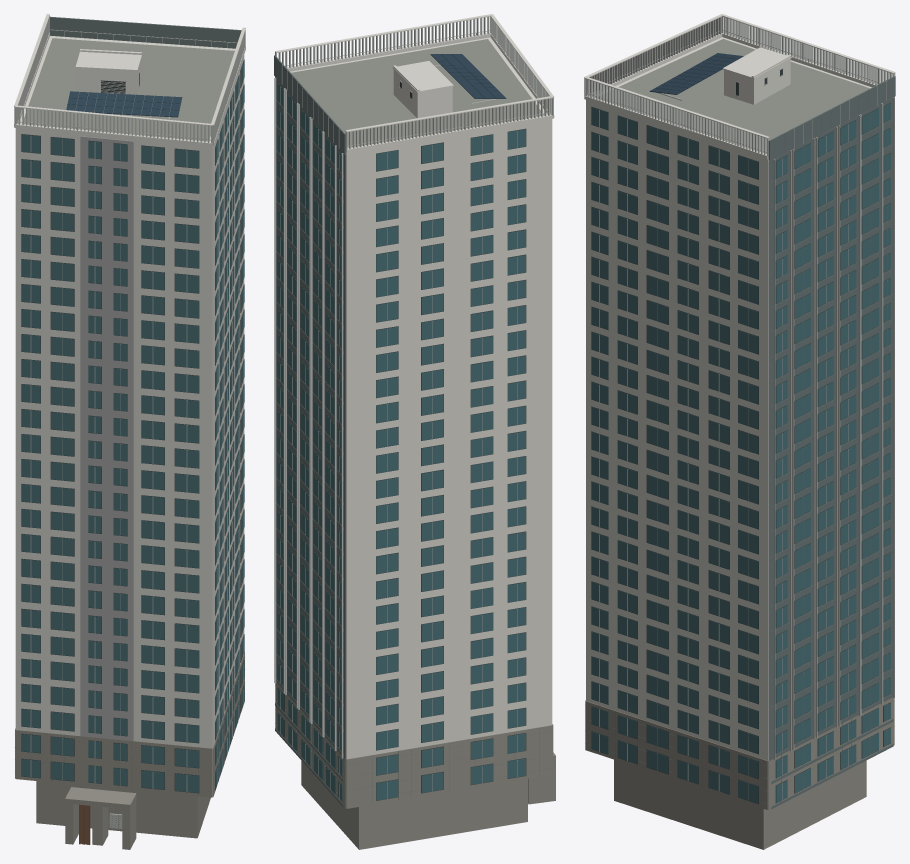
The model's file is bespoke-maple-xi-208-corrected.glb.
The picture shows the model from 3 angles, left to right: view 1: azimuth 30°, elevation 25°; view 2: azimuth 150°, elevation 25°; view 3: azimuth 270°, elevation 25°; orthographic projection.
Visible parts, largest first — view 1: 208_wing_0_observed_massing, 208_e3_window_glass, 208_e3_paint_zone_warm, 208_e2_window_glass, 208_e3_individually_sized_reveals, 208_wing_0_service_roof, 208_e3_lower_stone_field, 208_e2_individually_sized_reveals, 208_208_deep_recessed_lobby_mass, 208_e3_window_center_frames, 208_highway_crown_dark_header, 208_e2_window_center_frames (+15 smaller); view 2: 208_wing_0_observed_massing, 208_e0_window_glass, 208_e1_window_glass, 208_e1_curtainlook_vertical_bars, 208_e1_paint_zone_graphite, 208_wing_0_service_roof, 208_208_deep_recessed_lobby_mass, 208_e0_individually_sized_reveals, 208_e0_lower_stone_field, 208_e1_curtainlook_spandrels, 208_crown_screen_e2_individual_fins, 208_crown_screen_e0_individual_fins (+15 smaller); view 3: 208_wing_0_observed_massing, 208_e2_window_glass, 208_e1_window_glass, 208_e1_paint_zone_graphite, 208_e1_curtainlook_vertical_bars, 208_e2_individually_sized_reveals, 208_208_deep_recessed_lobby_mass, 208_e1_curtainlook_spandrels, 208_wing_0_service_roof, 208_e1_individually_sized_reveals, 208_e2_lower_stone_field, 208_e2_window_center_frames (+13 smaller).
Boxes of the visible parts, bbox=[...] form: 208_wing_0_observed_massing: bbox=[15, 55, 244, 796]; 208_e3_window_glass: bbox=[21, 134, 198, 792]; 208_e3_paint_zone_warm: bbox=[80, 136, 133, 741]; 208_e2_window_glass: bbox=[215, 60, 244, 789]; 208_e3_individually_sized_reveals: bbox=[21, 134, 199, 793]; 208_wing_0_service_roof: bbox=[22, 38, 234, 141]; 208_e3_lower_stone_field: bbox=[15, 730, 212, 797]; 208_e2_individually_sized_reveals: bbox=[215, 59, 244, 790]; 208_208_deep_recessed_lobby_mass: bbox=[36, 781, 210, 838]; 208_e3_window_center_frames: bbox=[30, 136, 187, 791]; 208_highway_crown_dark_header: bbox=[50, 16, 241, 48]; 208_e2_window_center_frames: bbox=[217, 65, 243, 785]; 208_wing_0_observed_massing: bbox=[345, 120, 552, 808]; 208_e0_window_glass: bbox=[376, 129, 525, 800]; 208_e1_window_glass: bbox=[277, 84, 342, 800]; 208_e1_curtainlook_vertical_bars: bbox=[274, 77, 343, 758]; 208_e1_paint_zone_graphite: bbox=[275, 77, 345, 759]; 208_wing_0_service_roof: bbox=[291, 39, 543, 147]; 208_208_deep_recessed_lobby_mass: bbox=[301, 761, 527, 849]; 208_e0_individually_sized_reveals: bbox=[376, 128, 526, 800]; 208_e0_lower_stone_field: bbox=[346, 725, 552, 808]; 208_e1_curtainlook_spandrels: bbox=[275, 100, 343, 807]; 208_crown_screen_e2_individual_fins: bbox=[275, 17, 489, 68]; 208_crown_screen_e0_individual_fins: bbox=[345, 98, 553, 151]; 208_wing_0_observed_massing: bbox=[586, 100, 768, 809]; 208_e2_window_glass: bbox=[591, 107, 758, 803]; 208_e1_window_glass: bbox=[776, 103, 890, 802]; 208_e1_paint_zone_graphite: bbox=[768, 96, 894, 760]; 208_e1_curtainlook_vertical_bars: bbox=[773, 97, 894, 759]; 208_e2_individually_sized_reveals: bbox=[591, 106, 758, 804]; 208_208_deep_recessed_lobby_mass: bbox=[614, 759, 866, 849]; 208_e1_curtainlook_spandrels: bbox=[771, 119, 893, 809]; 208_wing_0_service_roof: bbox=[596, 39, 869, 153]; 208_e1_individually_sized_reveals: bbox=[775, 103, 890, 803]; 208_e2_lower_stone_field: bbox=[585, 701, 767, 809]; 208_e2_window_center_frames: bbox=[599, 110, 748, 800].
Bounding box in the file's own units: 34.19 × 94.04 × 36.28.
